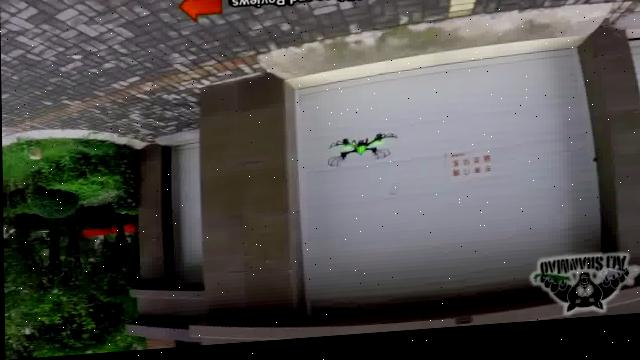drone: (322, 132, 400, 172)
